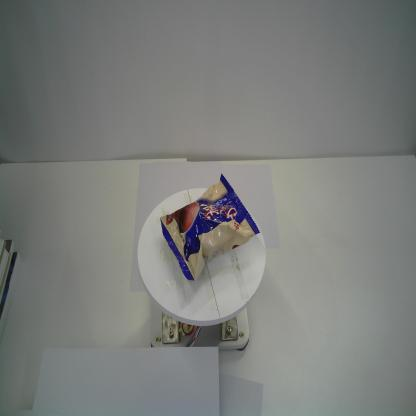Dessert: (160, 174, 260, 283)
